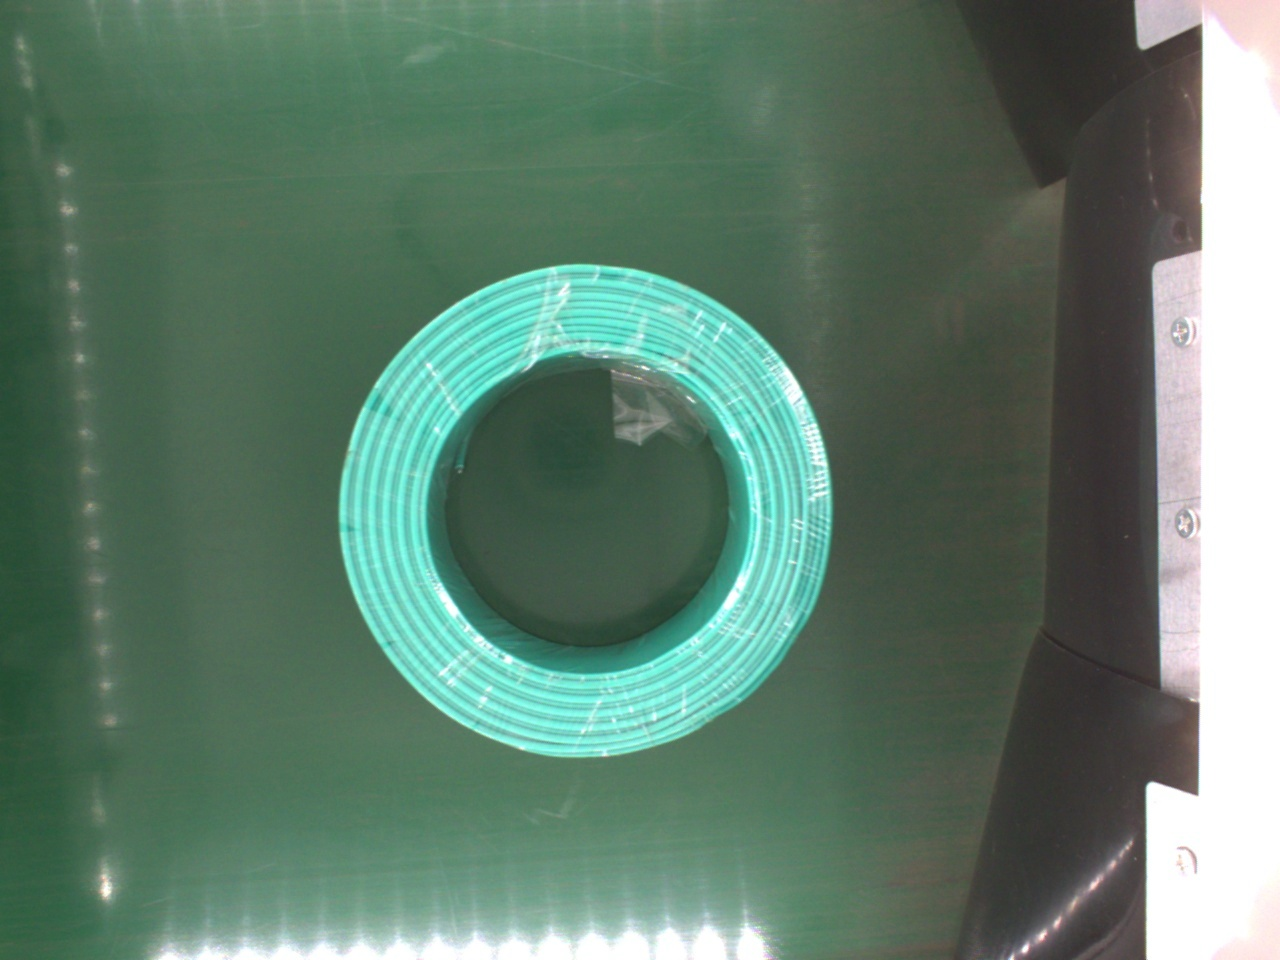green: (334, 262, 835, 757)
